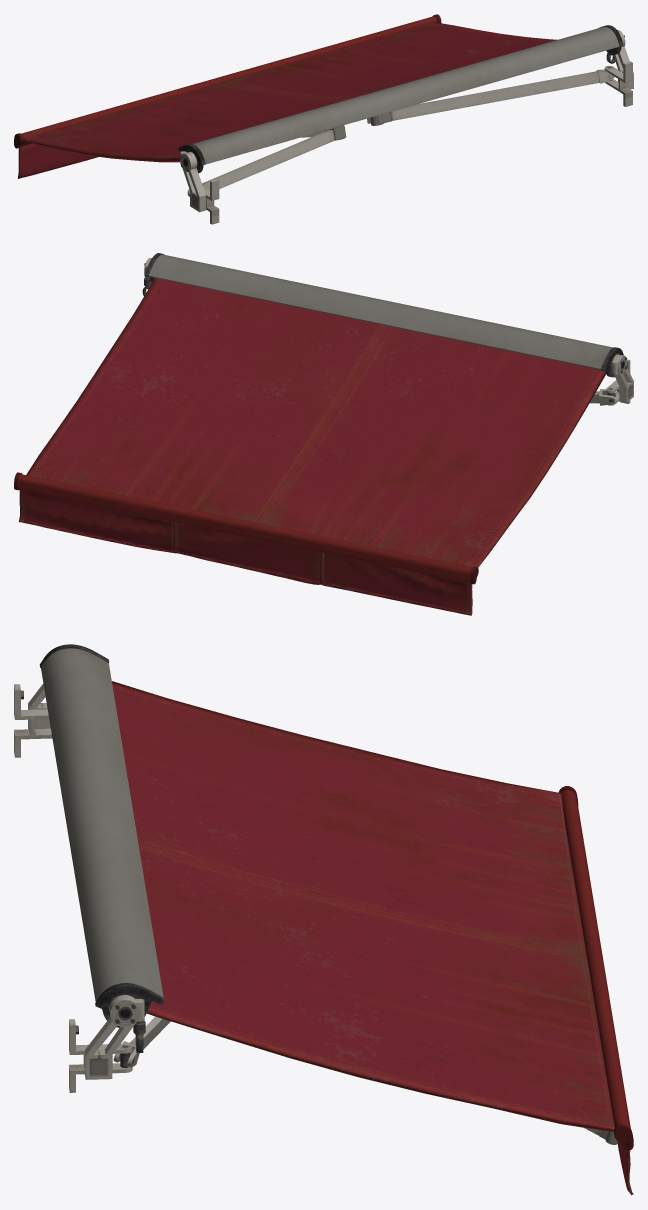
File: Awning_adapted.glb
3 views of the same model, one above another, from view 1: azimuth 30°, elevation 25°; view 2: azimuth 150°, elevation 25°; view 3: azimuth 270°, elevation 25° (orthographic). The views are drawn at different scales.
Size of the model in its own units: 2.98 by 0.8936 by 2.16.
2 materials, 2 textured.
